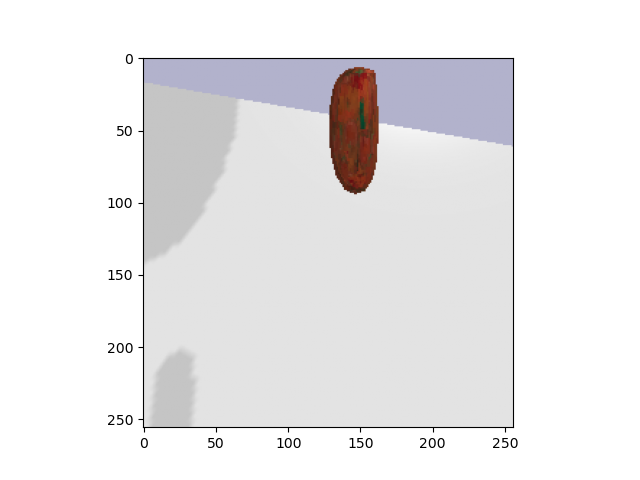v249b387_106: (326, 65, 383, 199)
